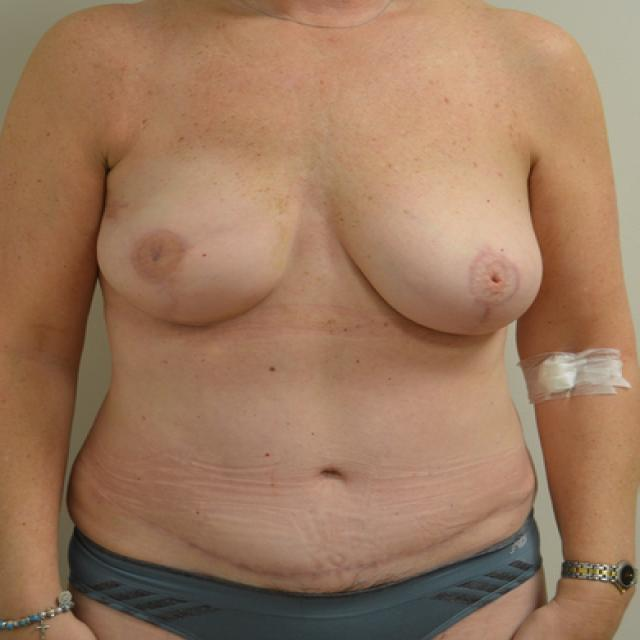Seno herido: (332, 162, 548, 346), (92, 162, 310, 340)
